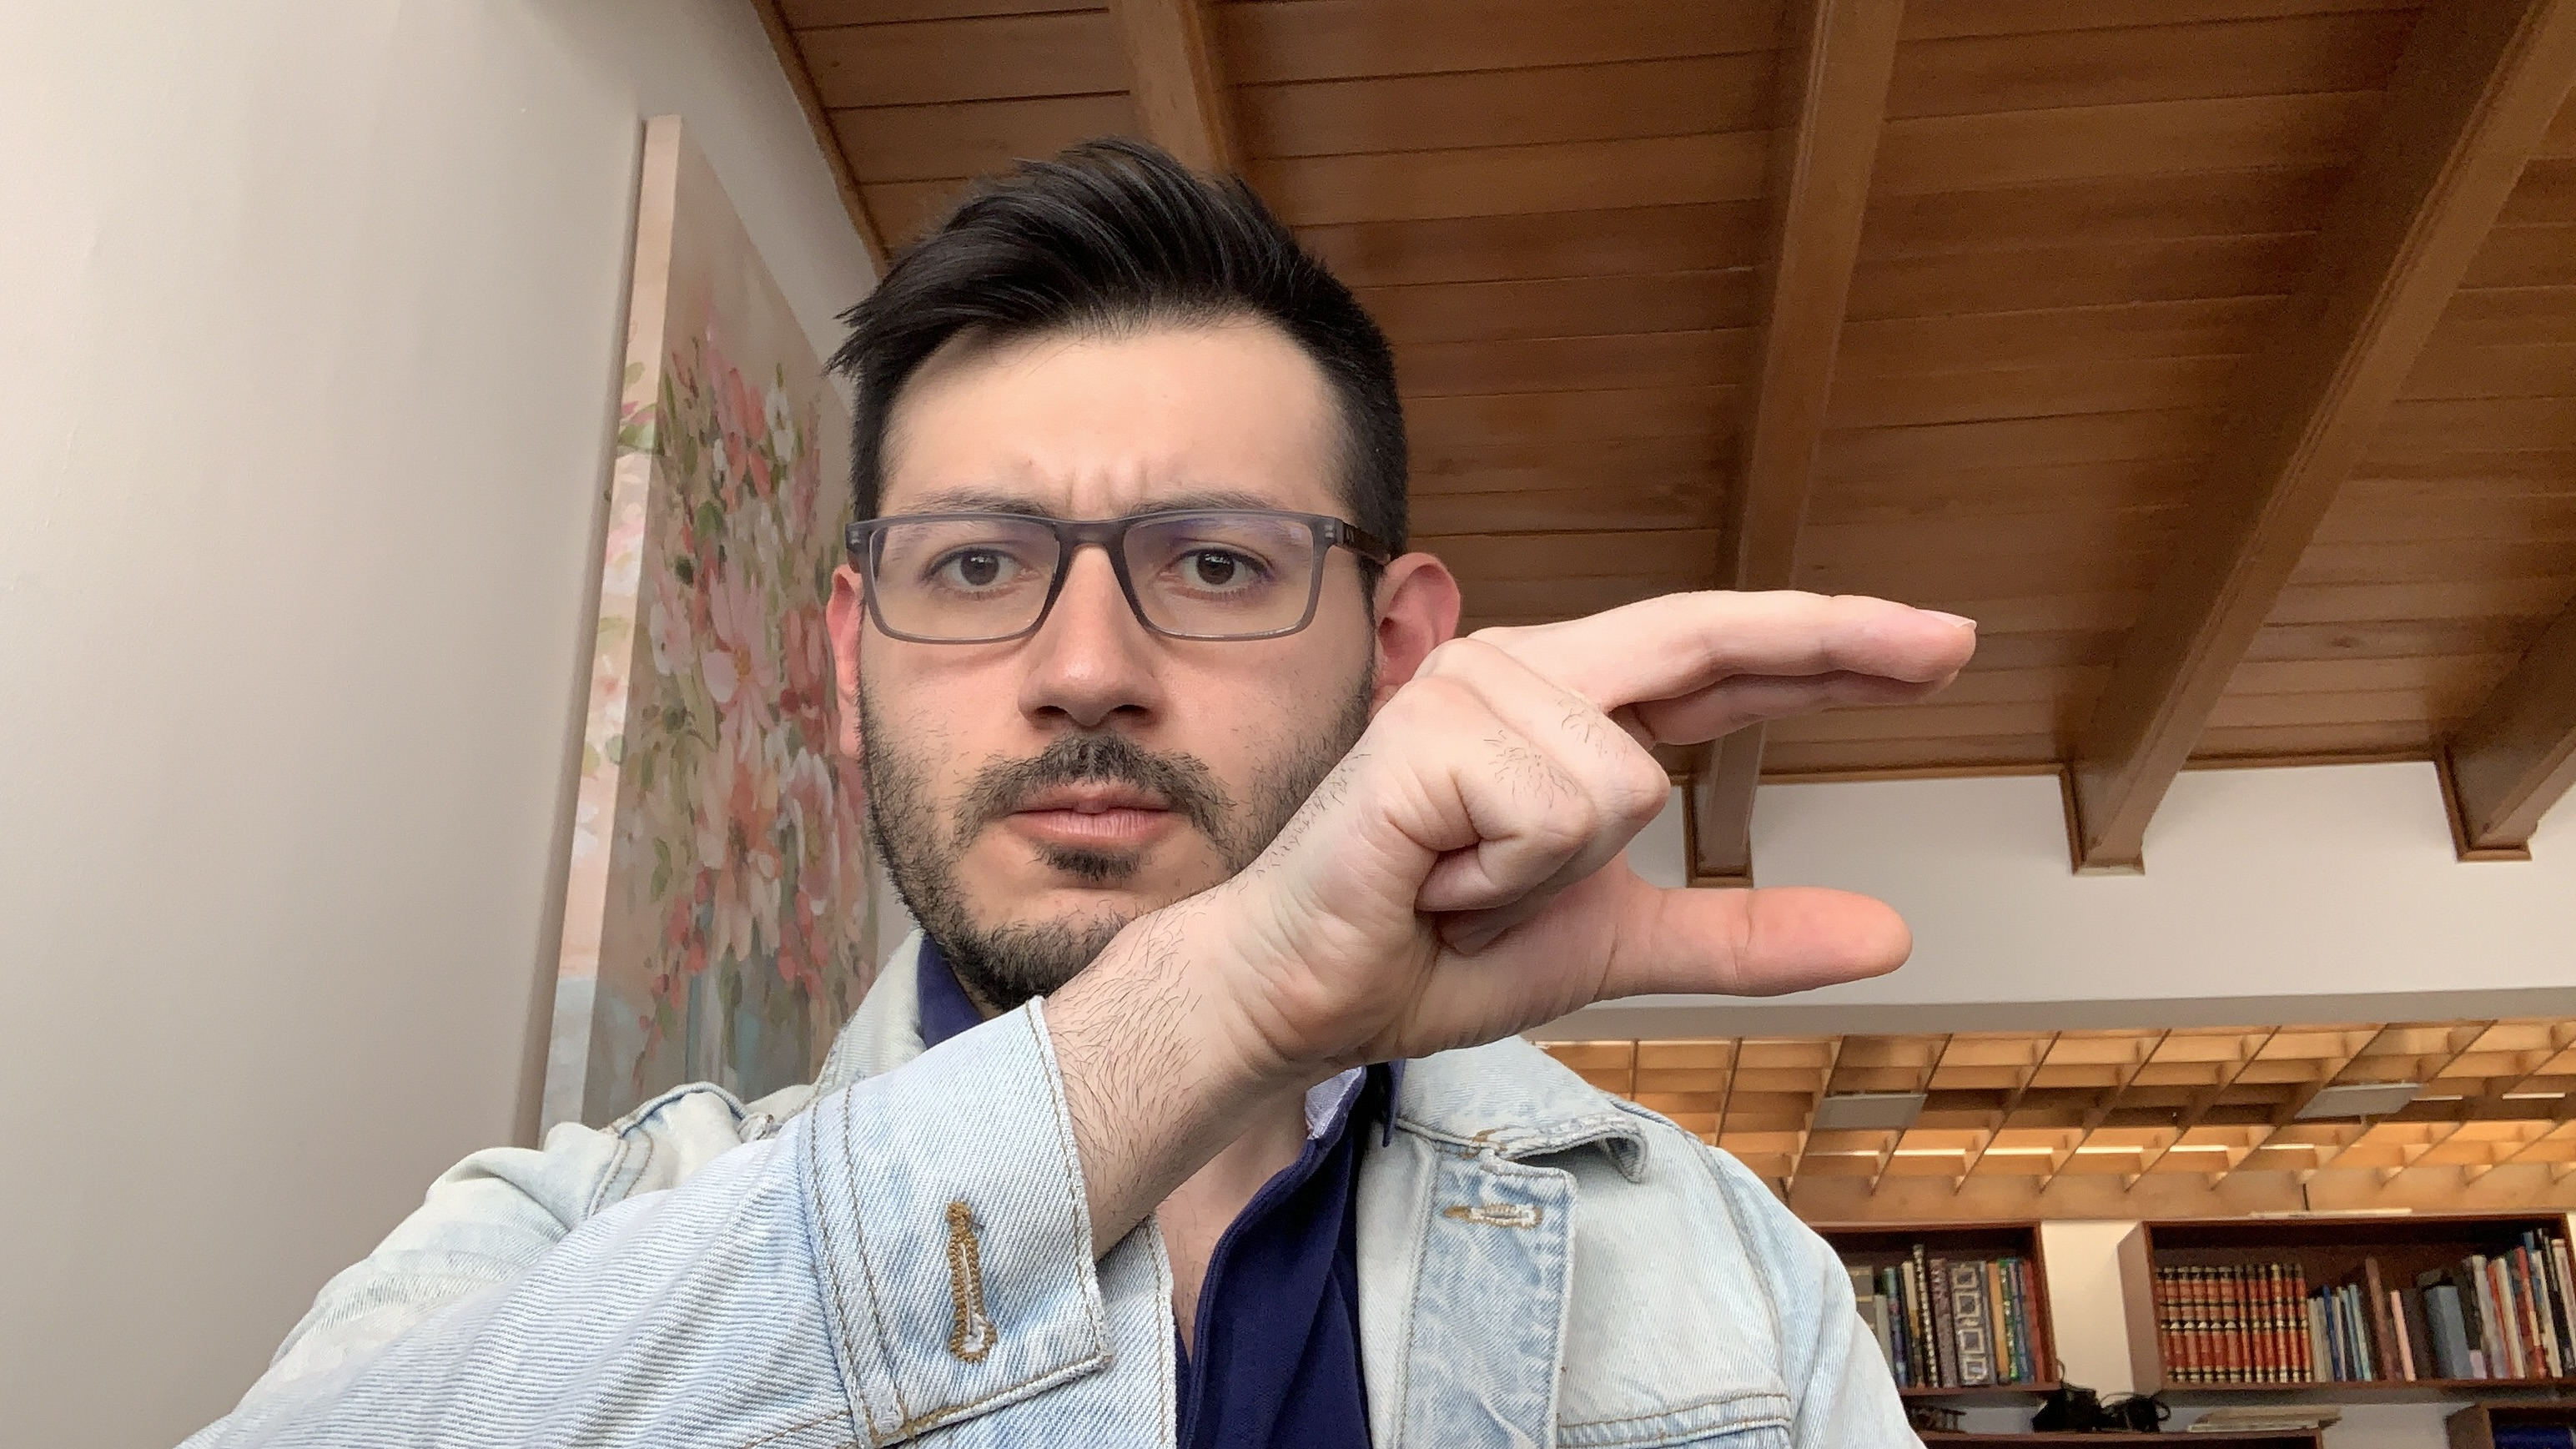No: (1272, 573, 2001, 1106)
